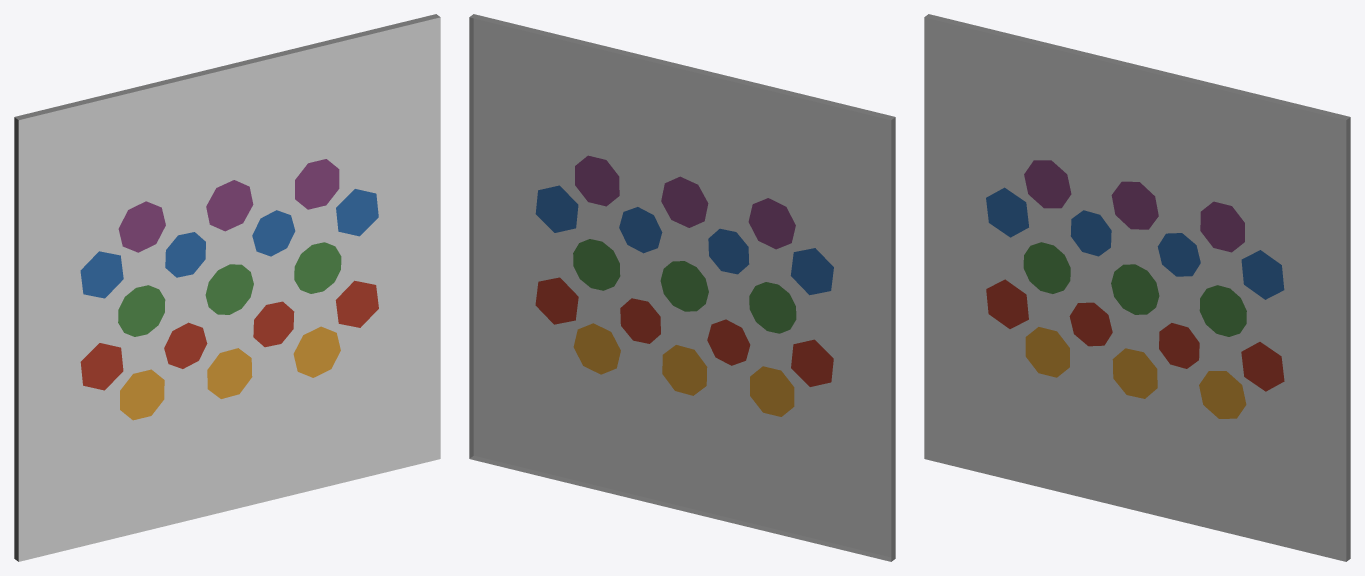
File: SM_Int_SciencePoster02.obj
3 renders of one model, left to right at view 1: azimuth 30°, elevation 25°; view 2: azimuth 150°, elevation 25°; view 3: azimuth 330°, elevation 25°, orthographic.
Parts seen in each view (by area): view 1: SM_Int_SciencePoster02_MI_AtlasSchool01A; view 2: SM_Int_SciencePoster02_MI_AtlasSchool01A; view 3: SM_Int_SciencePoster02_MI_AtlasSchool01A.
Part boxes in pixels (left/top/right/bottom): SM_Int_SciencePoster02_MI_AtlasSchool01A: left=14, top=14, right=440, bottom=561; SM_Int_SciencePoster02_MI_AtlasSchool01A: left=469, top=14, right=895, bottom=561; SM_Int_SciencePoster02_MI_AtlasSchool01A: left=924, top=14, right=1350, bottom=561.
Size of the model in its own units: 1 by 1 by 0.0185.
Materials: 1 (1 with a texture image).
